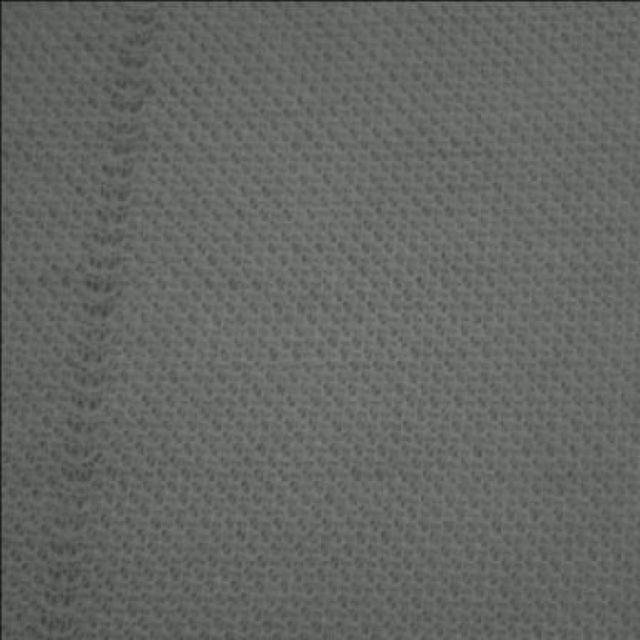Line: (34, 6, 156, 639)
